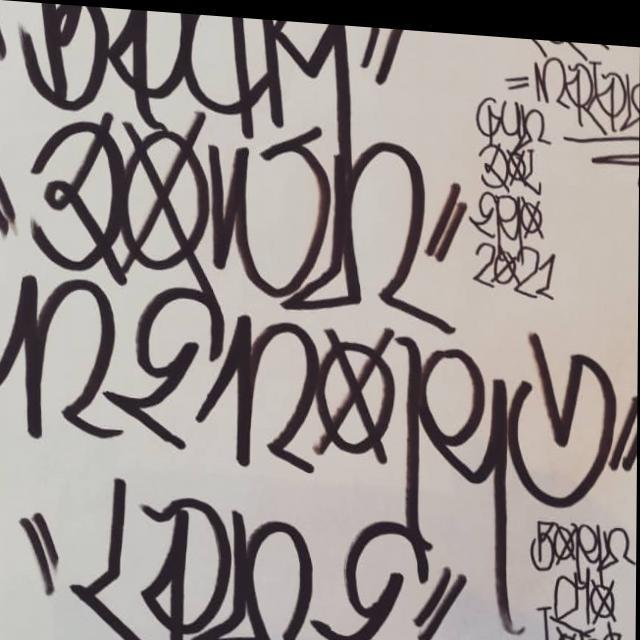-: (0, 0, 466, 640), (468, 74, 564, 302), (512, 30, 640, 155), (536, 507, 628, 640)
